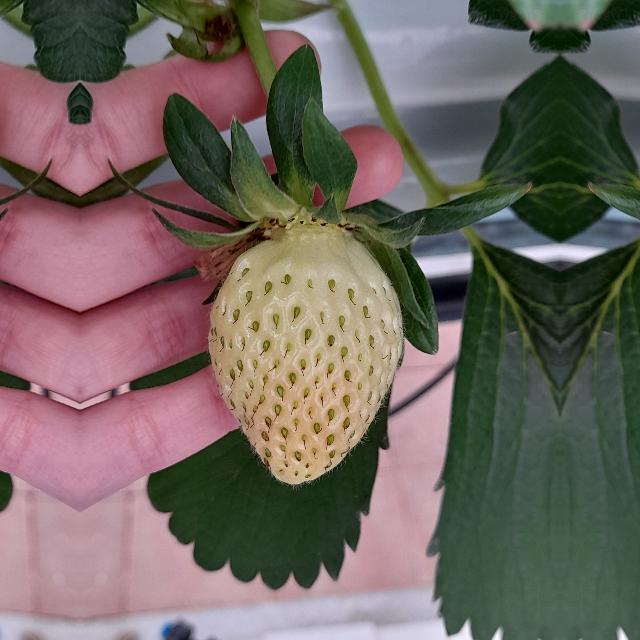Health_50: (208, 224, 402, 484)
